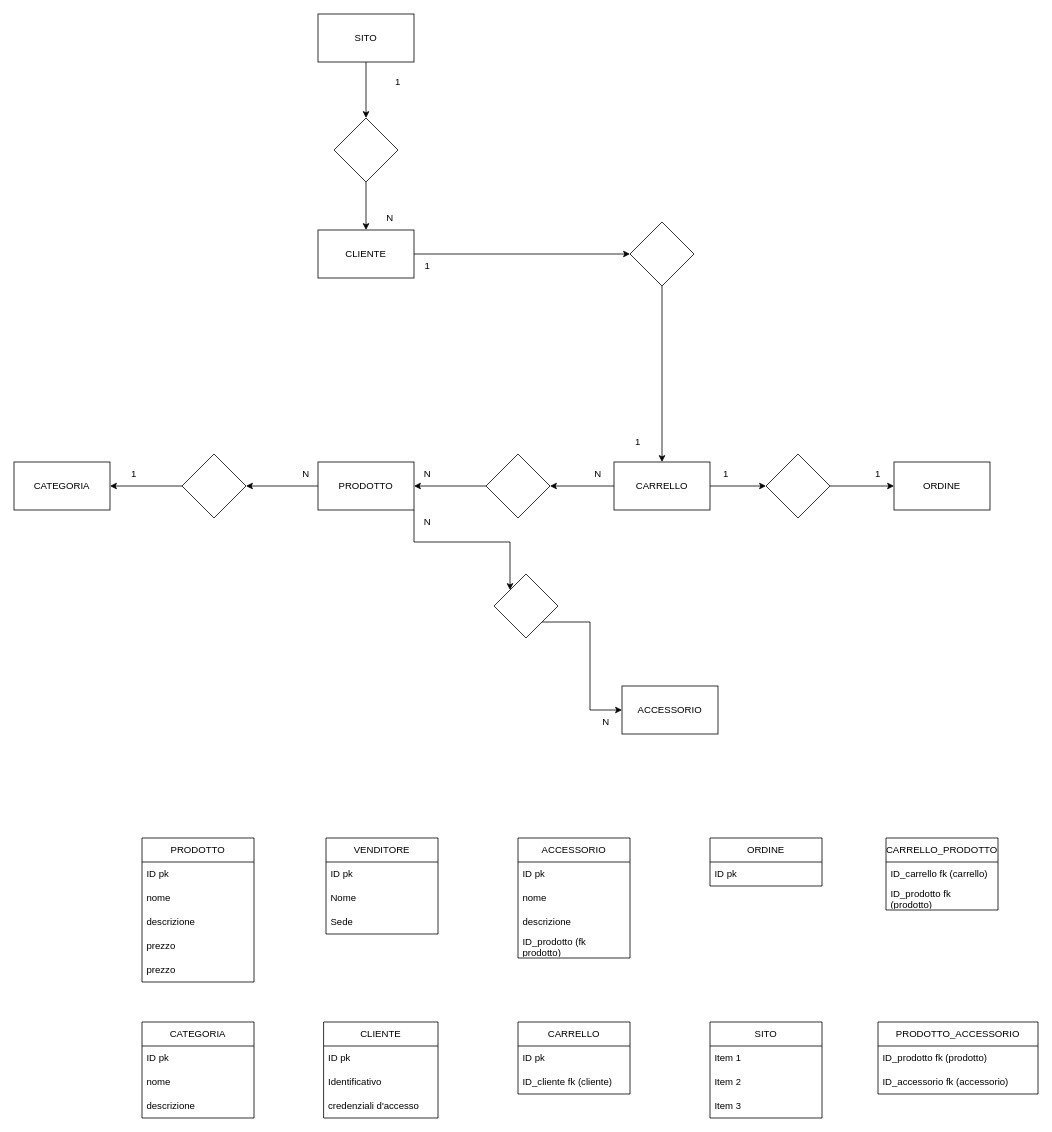
Some shapes in this 1052 by 1132 pixel diagram are drawn without their labels. The centre of each missing label's shape, as x and y in pixels:
"aggiunge prodotto" belongs at (x=661, y=253).
"appartiene" belongs at (x=213, y=485).
"contiene" belongs at (x=517, y=485).
"fa" belongs at (x=797, y=485).
"può avere" belongs at (x=525, y=605).
"registra" belongs at (x=365, y=149).
